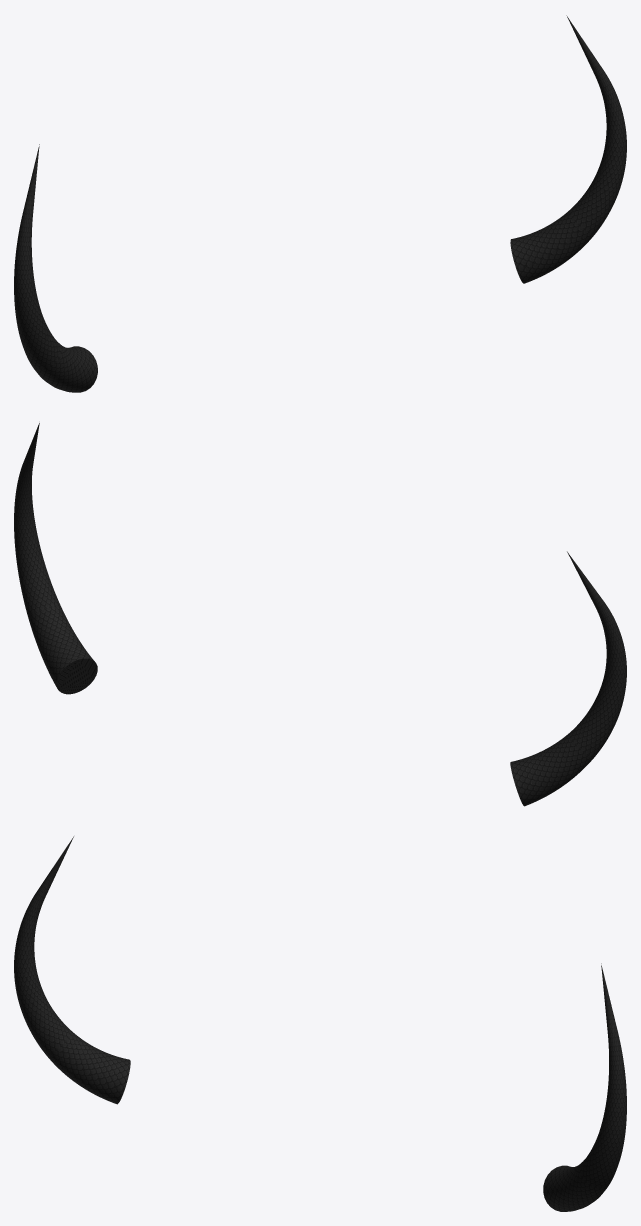
Rendered from horns.FBX.
The picture shows the model from 3 angles, top to bottom: view 1: azimuth 30°, elevation 25°; view 2: azimuth 150°, elevation 25°; view 3: azimuth 330°, elevation 25°; orthographic projection.
Visible parts, largest first — view 1: Cone001; view 2: Cone001; view 3: Cone001.
Part boxes in pixels (bbox=[...]): Cone001: bbox=[14, 15, 626, 392]; Cone001: bbox=[14, 423, 626, 806]; Cone001: bbox=[14, 836, 626, 1211].
Size of the model in its own units: 93.64 by 10.48 by 38.29.
1 material, 1 textured.
